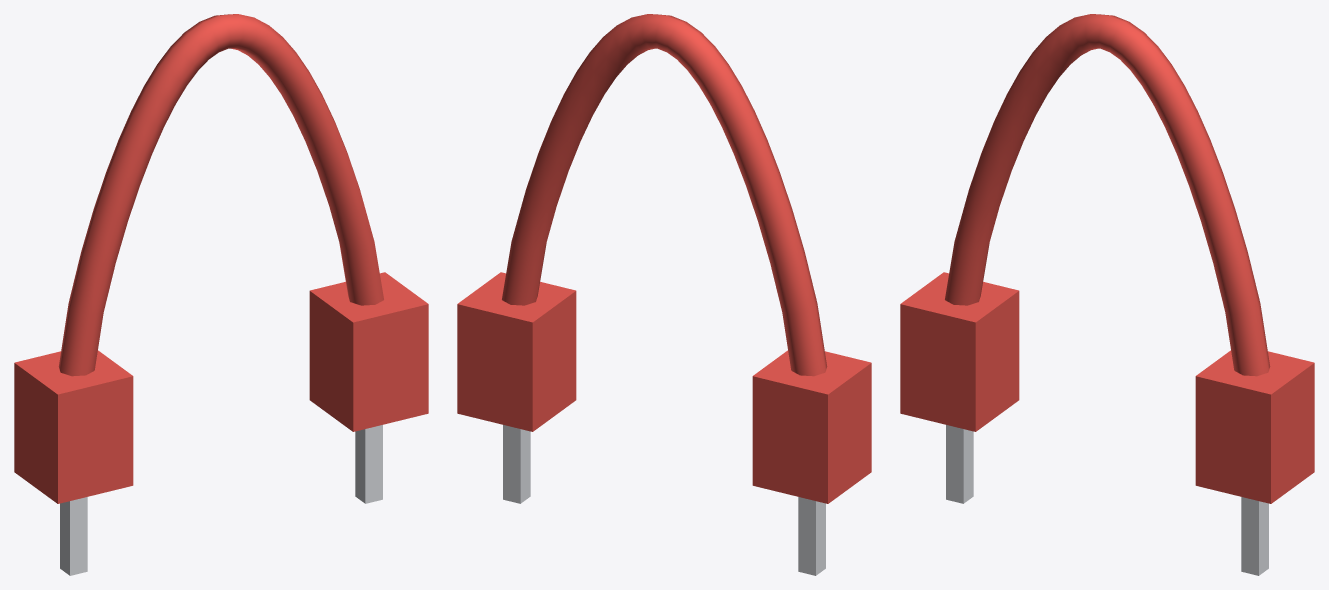
File: Cable_Puente_Rojo.glb
The picture shows the model from 3 angles, left to right: view 1: azimuth 30°, elevation 25°; view 2: azimuth 150°, elevation 25°; view 3: azimuth 330°, elevation 25°; orthographic projection.
Parts seen in each view (by area): view 1: Cable_Puente_Rojo; view 2: Cable_Puente_Rojo; view 3: Cable_Puente_Rojo.
Part boxes in pixels (x1,y1,x2,y2): Cable_Puente_Rojo: (14,14,428,575); Cable_Puente_Rojo: (457,14,871,575); Cable_Puente_Rojo: (900,14,1314,575).
Bounding box in the file's own units: 0.0128 × 0.017 × 0.0026.
